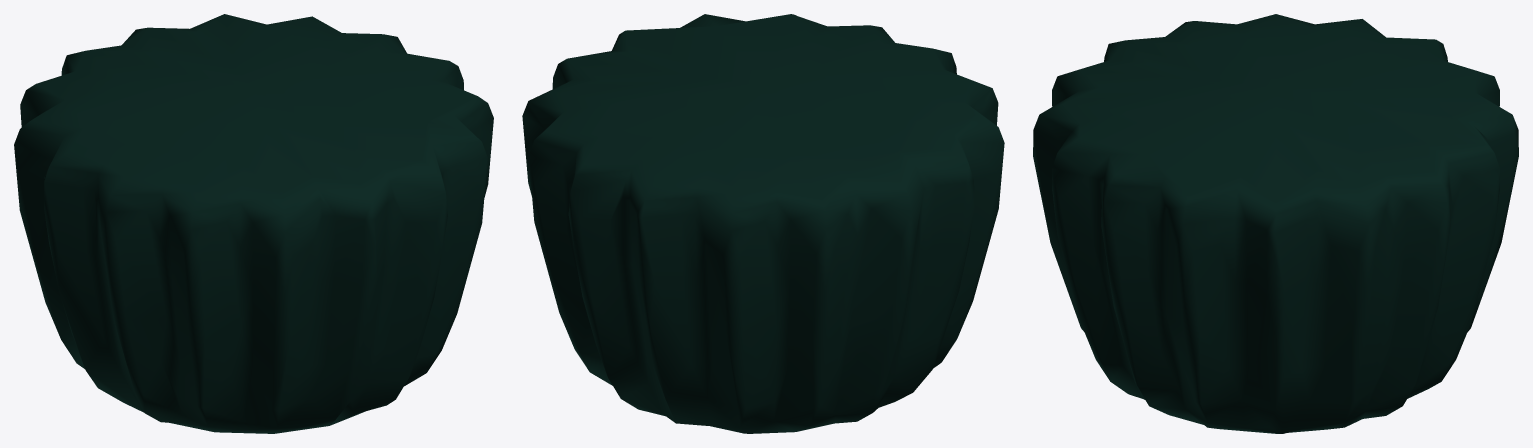
File: qiaokeliB.fbx
3 views of the same model, side by side, from view 1: azimuth 30°, elevation 25°; view 2: azimuth 150°, elevation 25°; view 3: azimuth 270°, elevation 25° (orthographic).
Parts seen in each view (by area): view 1: SM_prp_XiaoCao_Rig_V003:巧克力07; view 2: SM_prp_XiaoCao_Rig_V003:巧克力07; view 3: SM_prp_XiaoCao_Rig_V003:巧克力07.
Part boxes in pixels (x1=…): SM_prp_XiaoCao_Rig_V003:巧克力07: x1=14, y1=14, x2=493, y2=433; SM_prp_XiaoCao_Rig_V003:巧克力07: x1=522, y1=14, x2=1004, y2=433; SM_prp_XiaoCao_Rig_V003:巧克力07: x1=1033, y1=14, x2=1518, y2=433.
Size of the model in its own units: 2.91 by 1.87 by 2.91.
